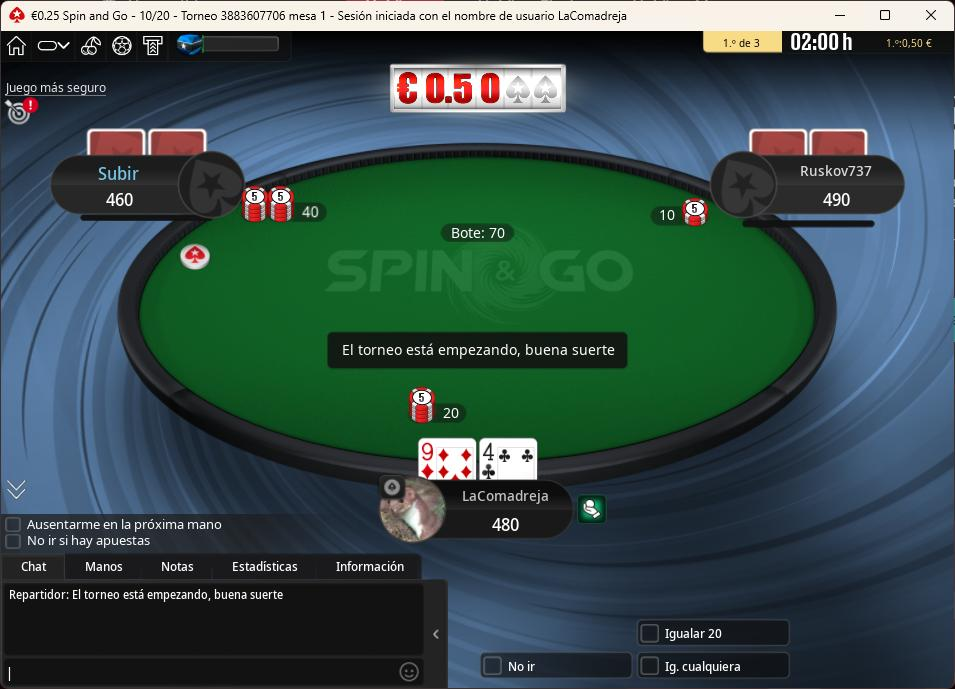Dealer: (182, 245, 211, 271)
HiddenCards: (751, 128, 869, 163), (87, 129, 208, 160)
Player: (52, 153, 245, 221), (713, 153, 907, 219)
PlayerBet: (241, 184, 329, 226), (650, 198, 709, 229)
PlayerChips: (106, 189, 138, 211), (824, 191, 856, 210)
Pot: (442, 223, 517, 245)
PrincipalBet: (408, 388, 467, 423)
PrincipalCards: (418, 437, 538, 483)
PrincipalCards1: (418, 436, 481, 483)
PrincipalCards2: (480, 436, 542, 482)
PrincipalPlayer: (380, 478, 575, 544)
PrincipalPlayerChips: (493, 517, 524, 536)
